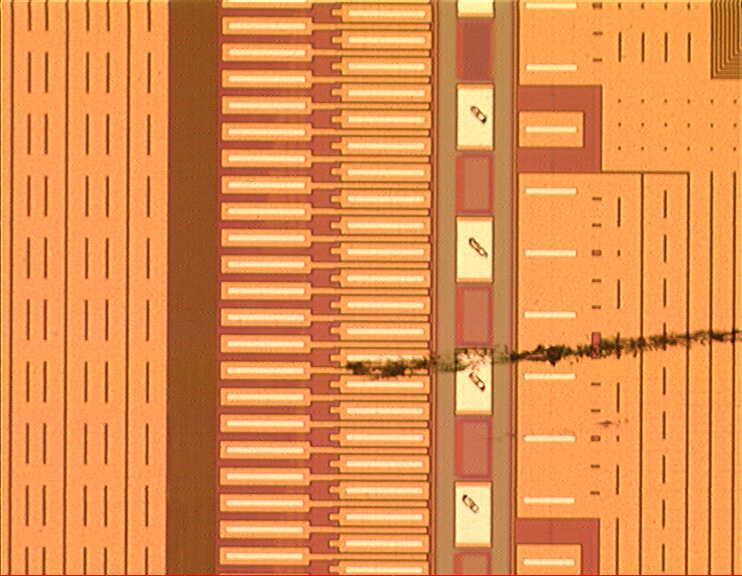SCRATCH: (336, 318, 742, 451)
